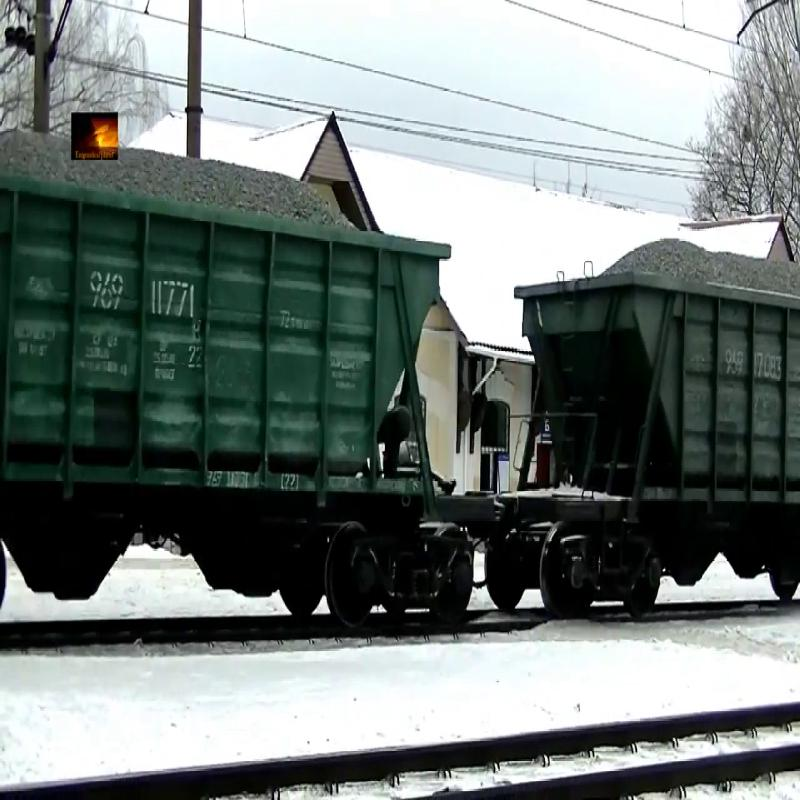train: (1, 127, 479, 621), (509, 237, 800, 631)
